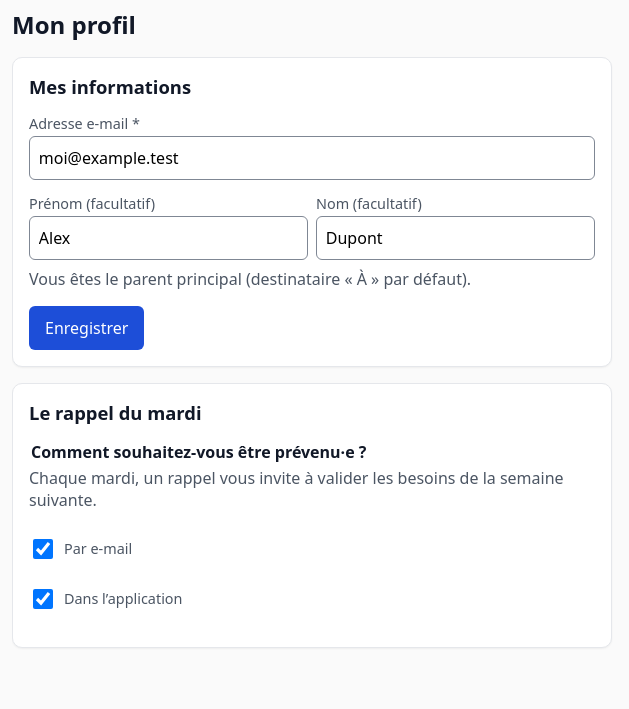
MonProfilPage › décoche un canal et persiste la préférence
What coordinates should you click on to do the following:
click the checkbox labelled "Dans l’application"
I would click on:
 (43, 599)
Its box is [33,589,53,609].
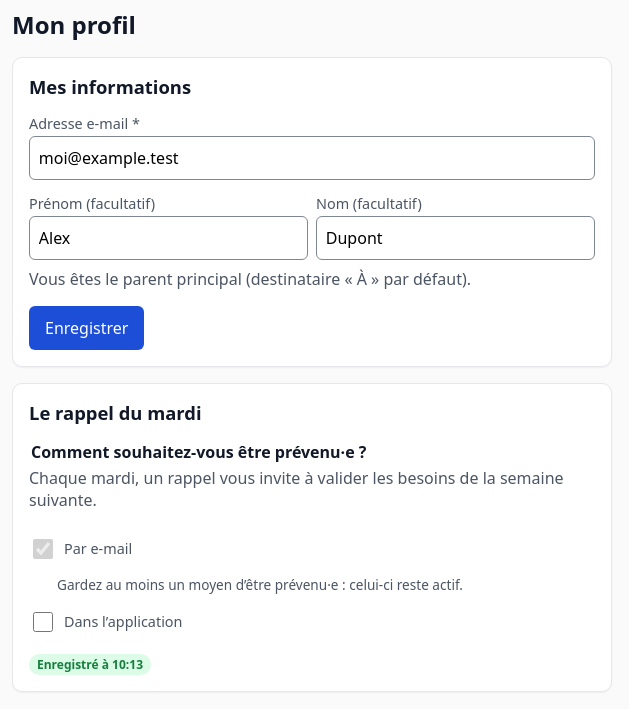
expect the text "Enregistré à 10:13" is shown: met, box [29,654,151,675]
